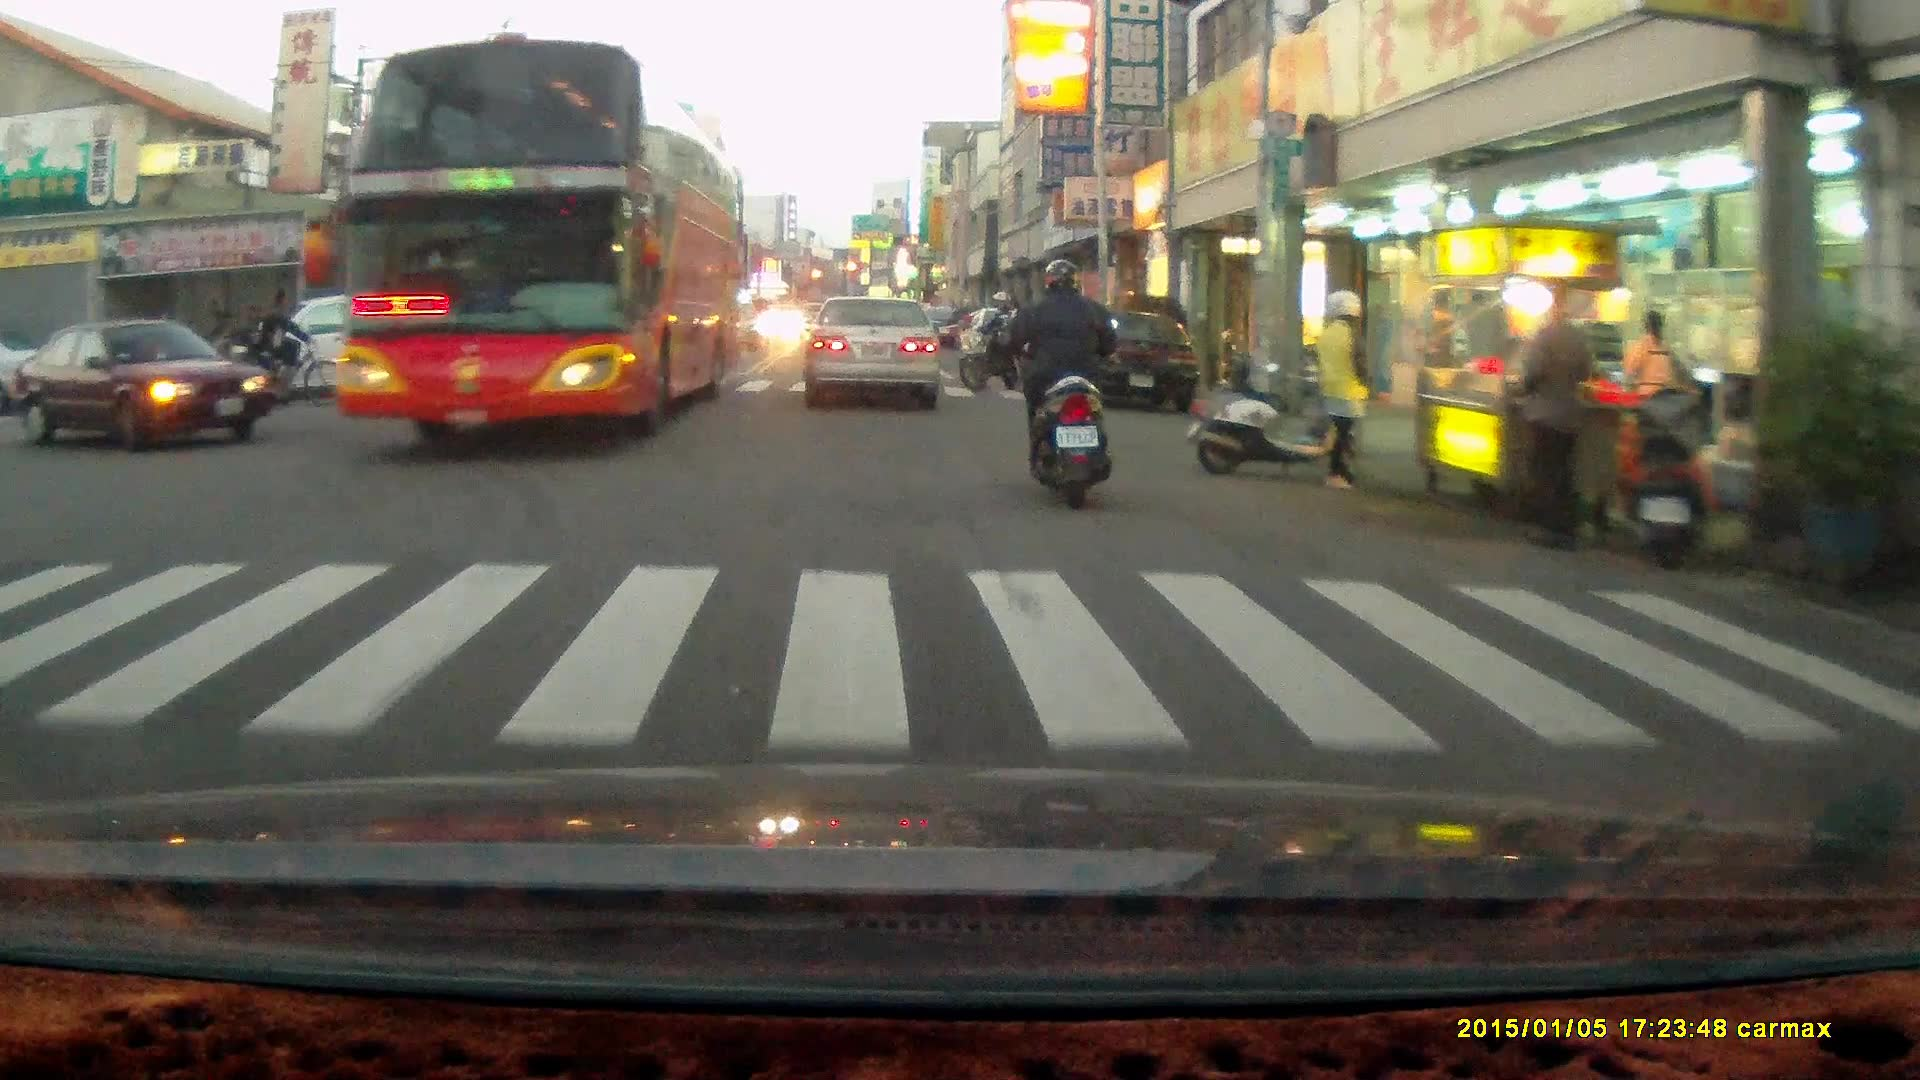pedestrian: (1519, 278, 1594, 553), (1312, 288, 1373, 489), (1622, 308, 1682, 488)
rider: (1002, 250, 1118, 501), (231, 290, 344, 409), (957, 286, 1026, 392)
vehicle: (324, 48, 744, 443), (15, 312, 268, 452), (272, 295, 434, 401), (1053, 304, 1200, 415), (803, 296, 945, 407)
